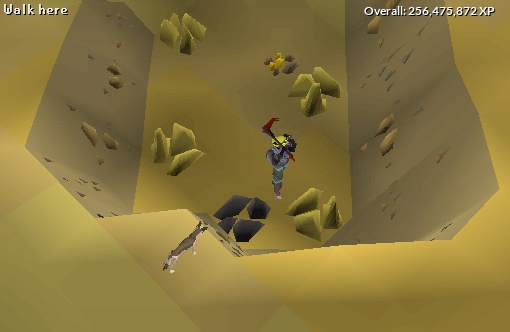depleted: (212, 194, 273, 250)
gold: (284, 66, 350, 124), (283, 187, 347, 246), (149, 122, 209, 178)
